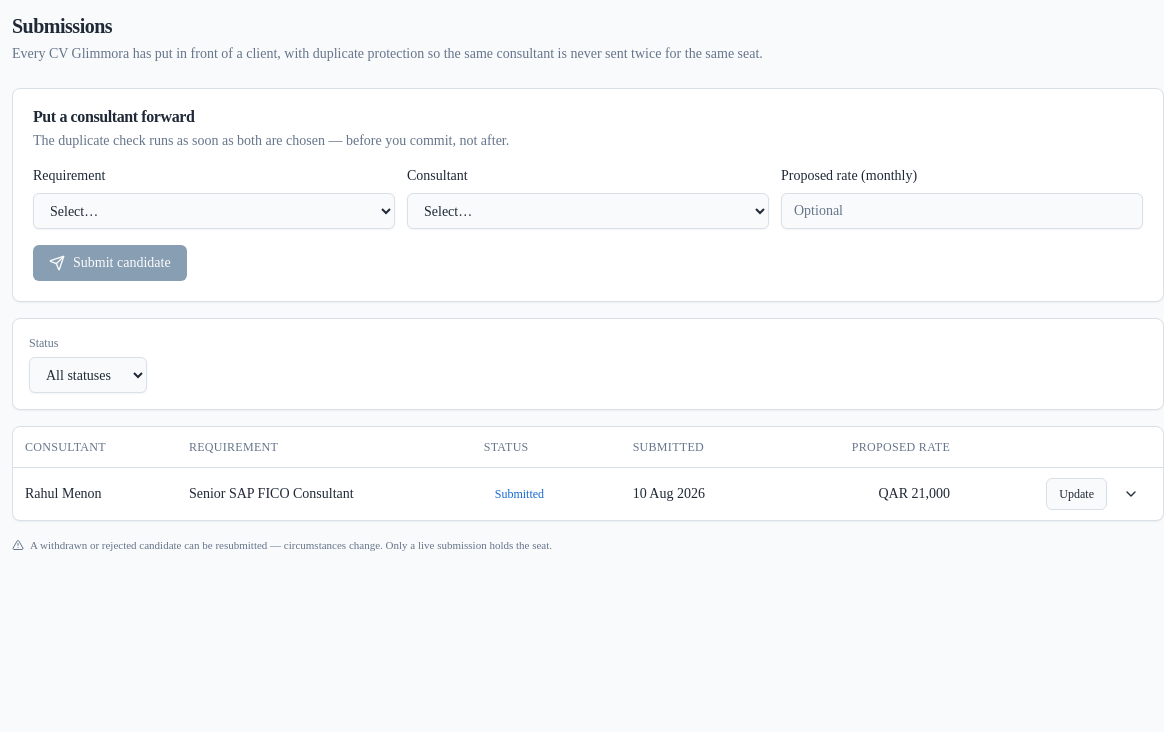
Test: submissions › allows the submission when there is no duplicate
Select "Senior SAP FICO Consultant" in the dropdown labelled "Requirement" at (214, 211), box [33,193,395,229]
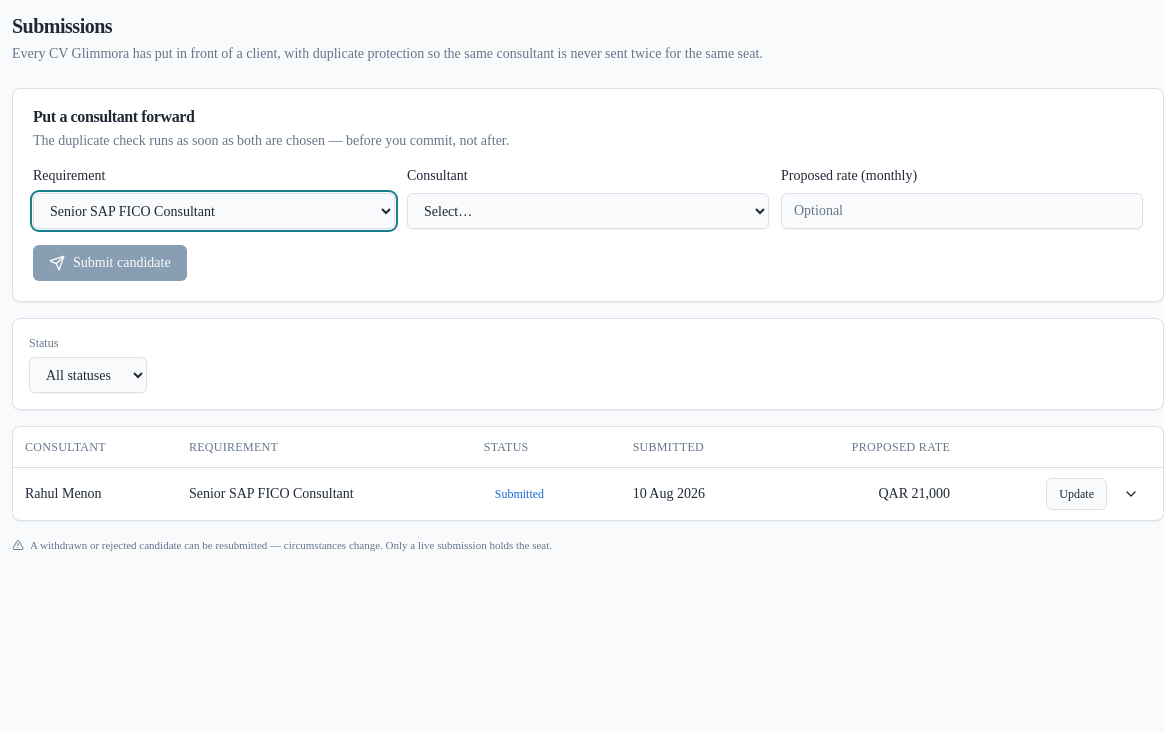
Select "Rahul Menon" in the dropdown labelled "Consultant" at (588, 211), box [407,193,769,229]
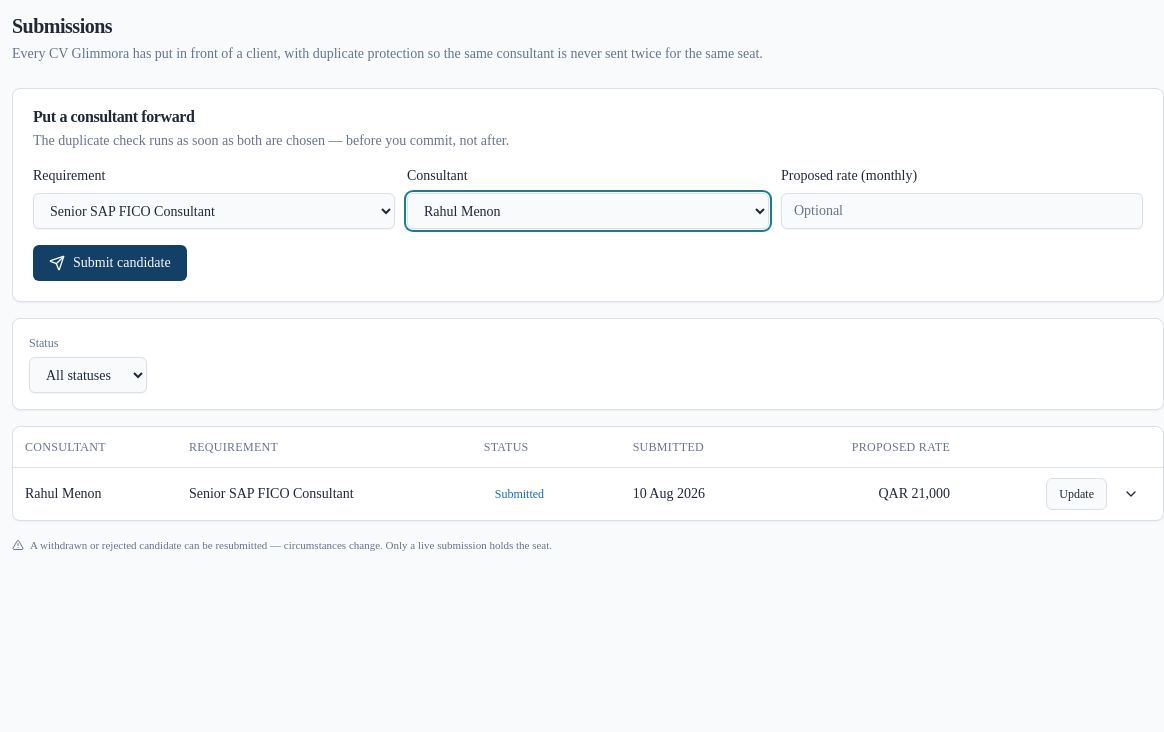
Check: the button "Submit candidate" is enabled, box [33,245,187,281]
